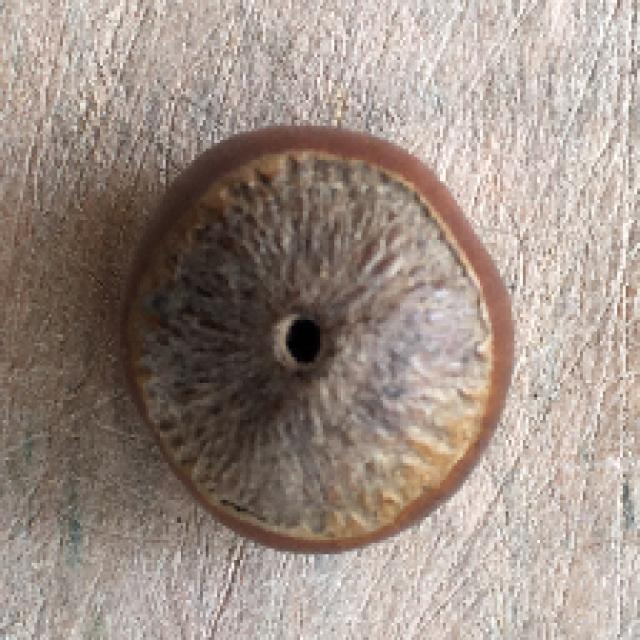damagedHazelnut: (115, 124, 518, 557)
